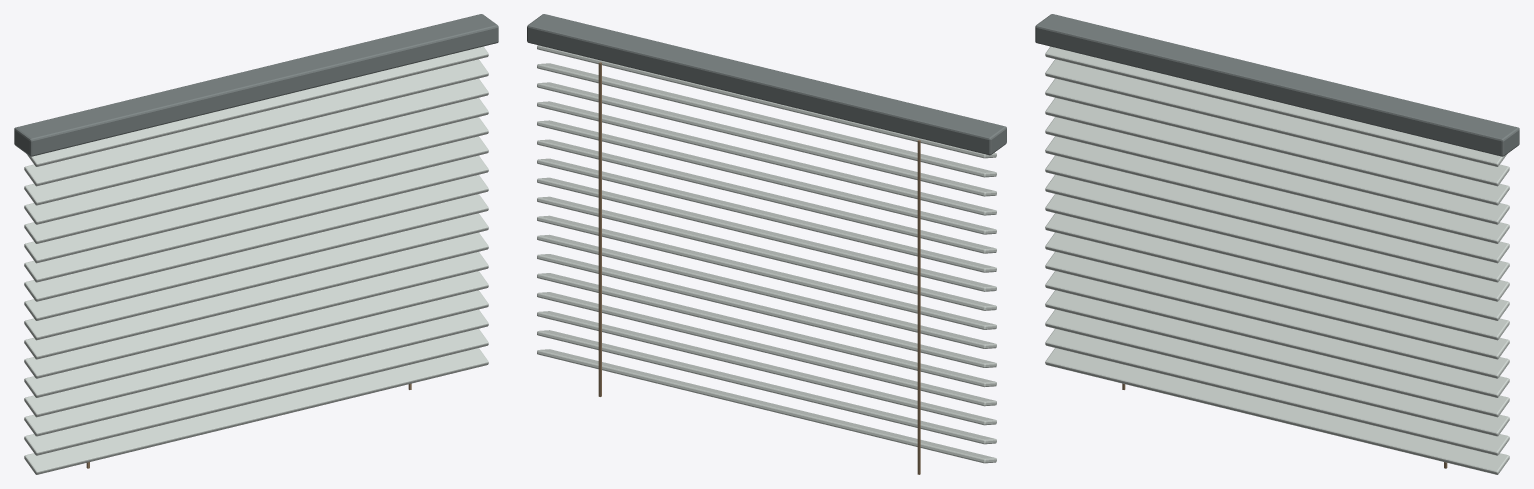
The model's file is WindowBlind.fbx.
The picture shows the model from 3 angles, left to right: view 1: azimuth 30°, elevation 25°; view 2: azimuth 150°, elevation 25°; view 3: azimuth 330°, elevation 25°; orthographic projection.
Visible parts, largest first — view 1: WindowBlind_Ceramic, WindowBlind_Steel; view 2: WindowBlind_Ceramic, WindowBlind_Steel, WindowBlind_Timber; view 3: WindowBlind_Ceramic, WindowBlind_Steel.
Boxes of the visible parts, left/top/right/bottom form: WindowBlind_Ceramic: left=24, top=46, right=488, bottom=474; WindowBlind_Steel: left=14, top=14, right=498, bottom=156; WindowBlind_Ceramic: left=537, top=45, right=996, bottom=463; WindowBlind_Steel: left=527, top=14, right=1006, bottom=155; WindowBlind_Timber: left=598, top=62, right=920, bottom=474; WindowBlind_Ceramic: left=1045, top=46, right=1509, bottom=474; WindowBlind_Steel: left=1035, top=14, right=1519, bottom=156.
Bounding box in the file's own units: 204 × 149 × 13.
